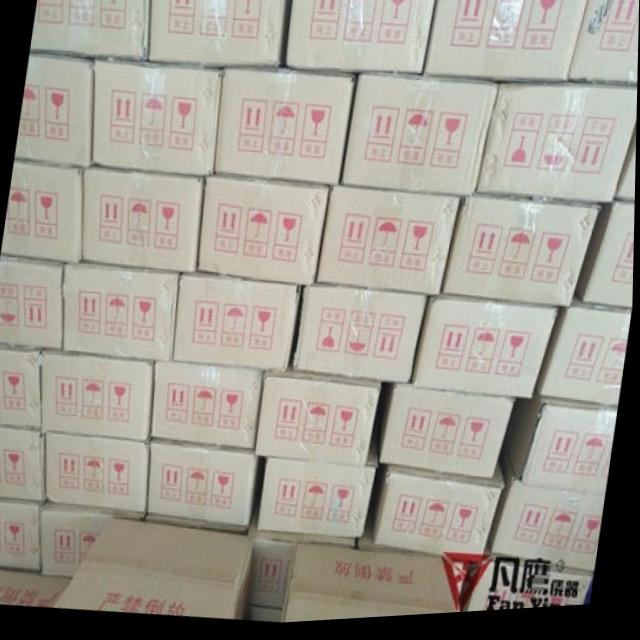box: (60, 518, 258, 621), (340, 78, 498, 201), (478, 89, 638, 209), (442, 200, 603, 312), (214, 67, 356, 186), (316, 187, 463, 299), (413, 297, 559, 407), (92, 59, 223, 179), (197, 175, 332, 289), (426, 0, 589, 88), (490, 454, 605, 577), (294, 285, 429, 389), (376, 387, 515, 485), (287, 548, 461, 625), (83, 163, 204, 273), (374, 462, 506, 562), (508, 393, 619, 504), (256, 372, 382, 469), (283, 0, 437, 79), (259, 441, 380, 541), (174, 276, 300, 372), (66, 262, 181, 366), (539, 297, 633, 412), (151, 363, 265, 452), (44, 353, 155, 443), (148, 441, 260, 529), (148, 0, 288, 70), (248, 529, 359, 613), (15, 54, 94, 170), (45, 433, 150, 516), (3, 157, 83, 263), (44, 502, 147, 579), (29, 0, 149, 63), (463, 564, 596, 618), (0, 254, 66, 351), (568, 3, 639, 90), (578, 209, 636, 311), (0, 343, 45, 431), (0, 428, 47, 501), (0, 496, 43, 573), (0, 571, 74, 607), (615, 125, 637, 208)
